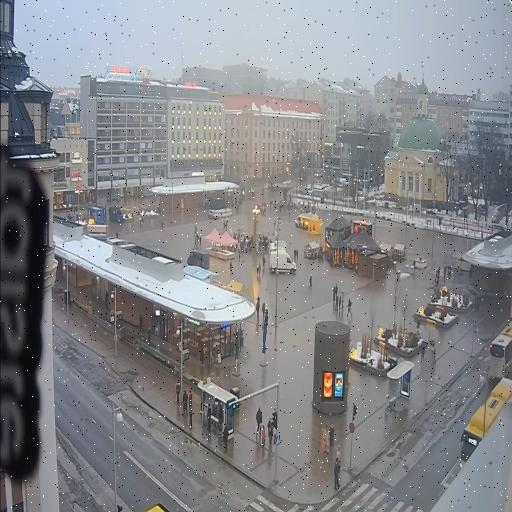Bus: (460, 378, 512, 465), (489, 322, 512, 378), (151, 503, 167, 511), (145, 508, 151, 511)
